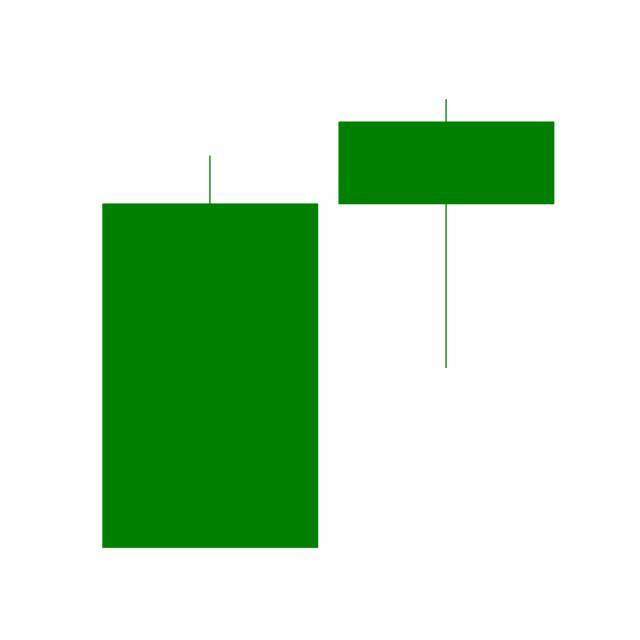Hanging Man: (328, 97, 566, 372)
